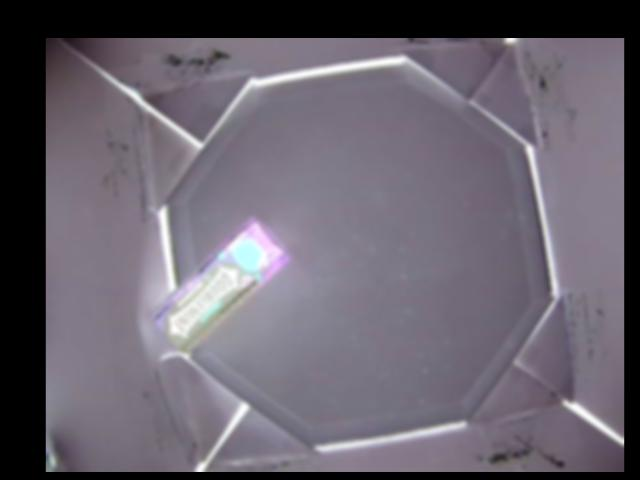Bottle: (156, 217, 288, 354)
